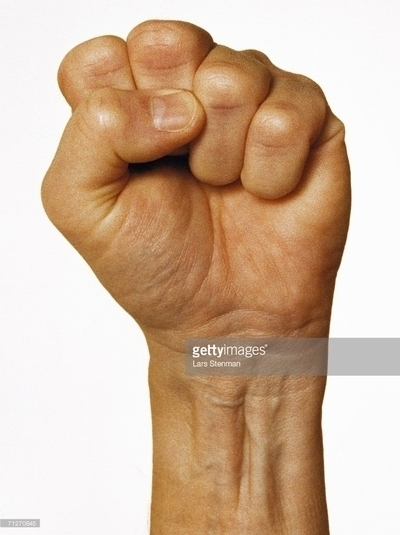closedhandfront: (17, 9, 373, 336)
